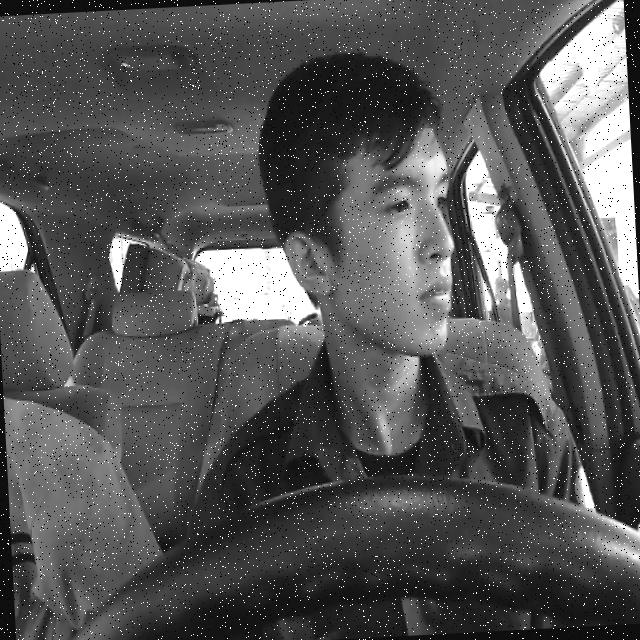seeing_right: (274, 112, 460, 364)
